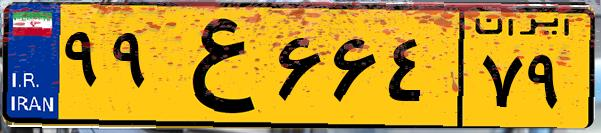4: (385, 28, 445, 110)
6: (270, 28, 330, 110), (330, 28, 385, 110)
7: (475, 38, 525, 113)
9: (57, 26, 110, 100), (525, 38, 570, 115), (110, 28, 158, 98)
ع: (158, 12, 270, 120)
